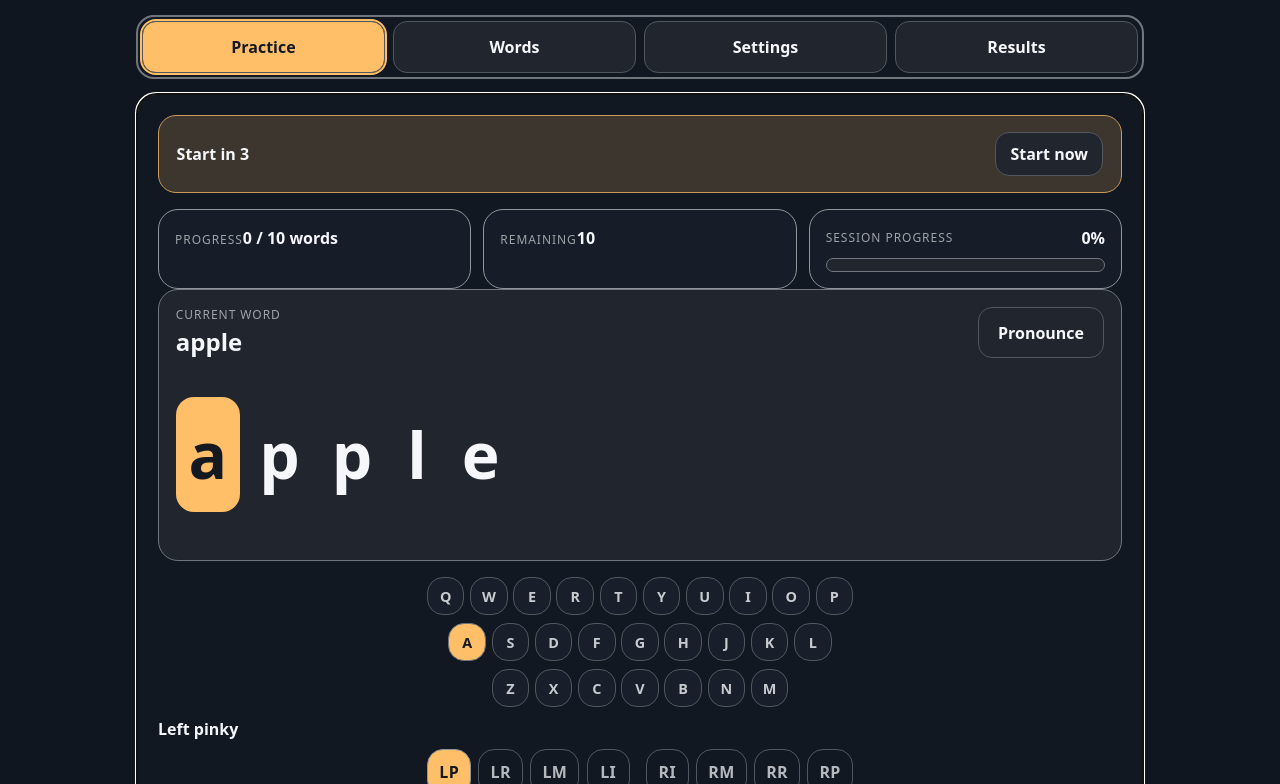
Test case: App › moves secondary row actions into an overflow menu on compact layouts
Click the button "Words": (514, 47) [393,21,636,73]
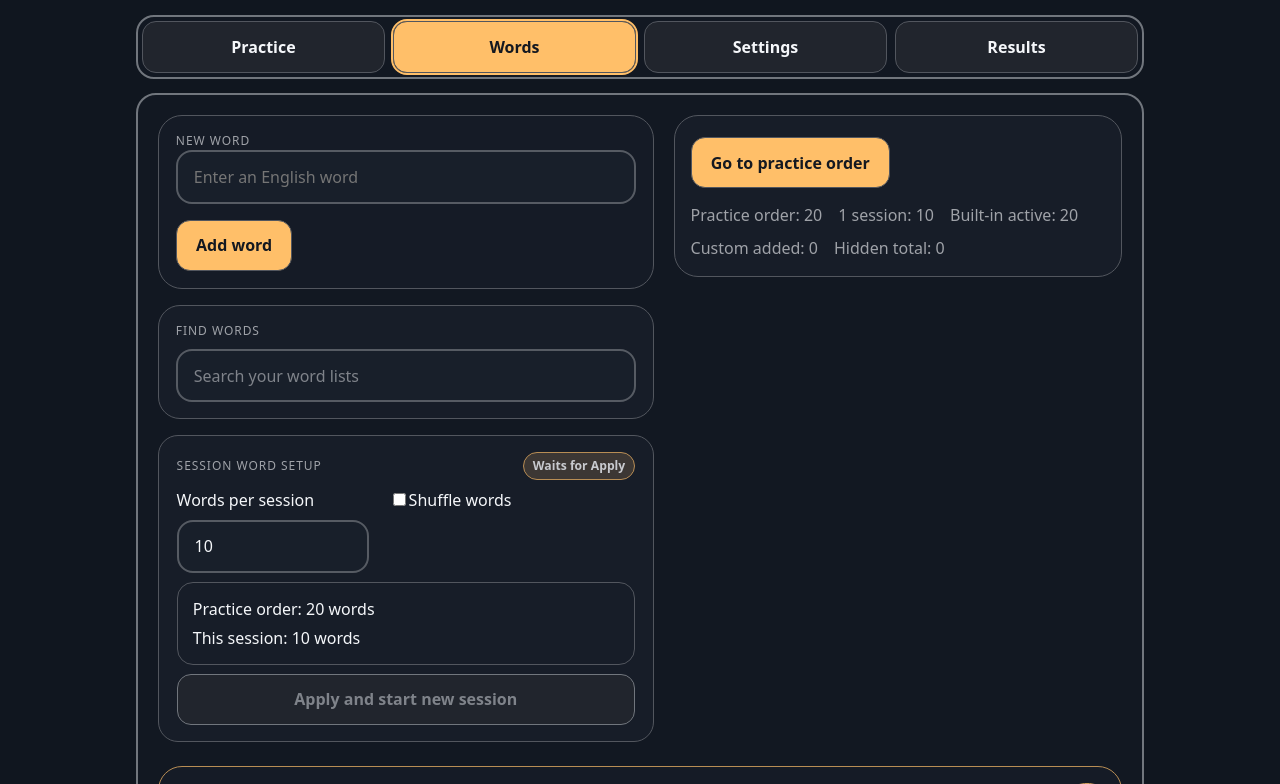
In the field named "New word": (406, 177) [176,150,636,204], type "banana"
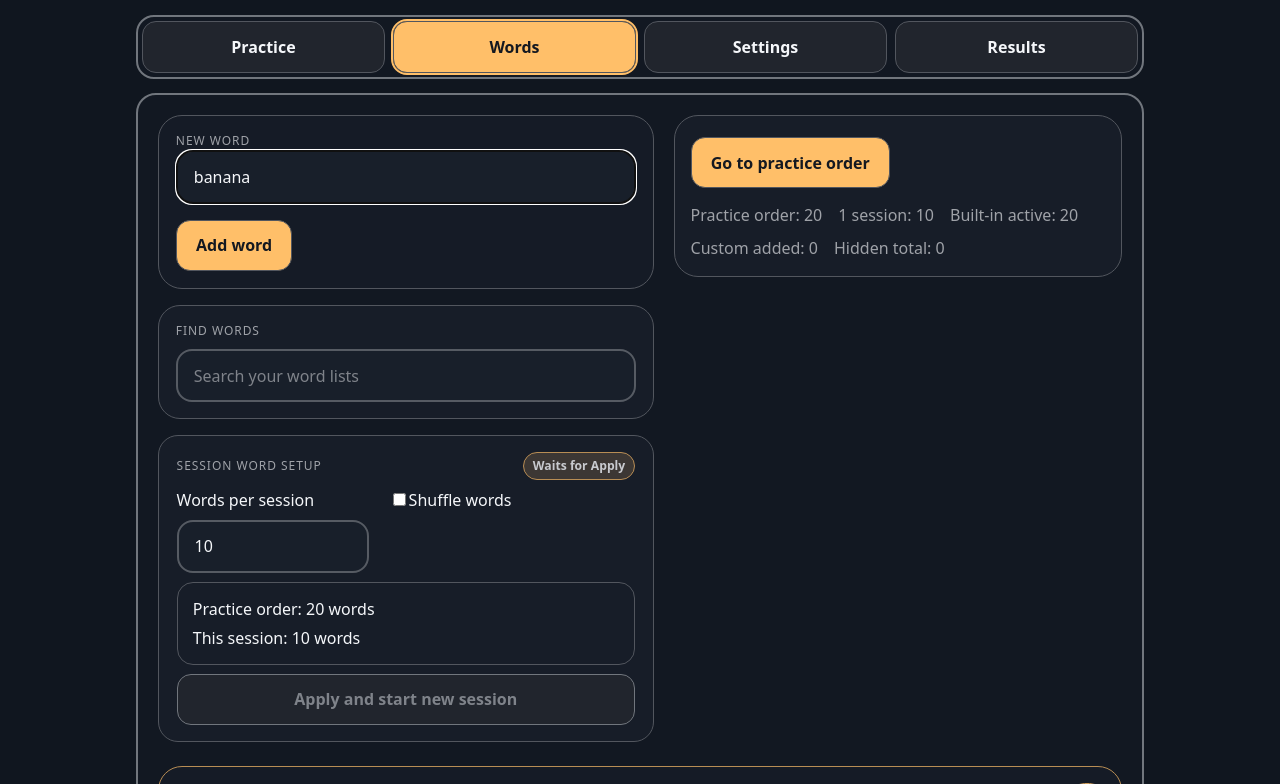
Click the button "Add word": (234, 245) [176,220,292,271]
(page scrolled)
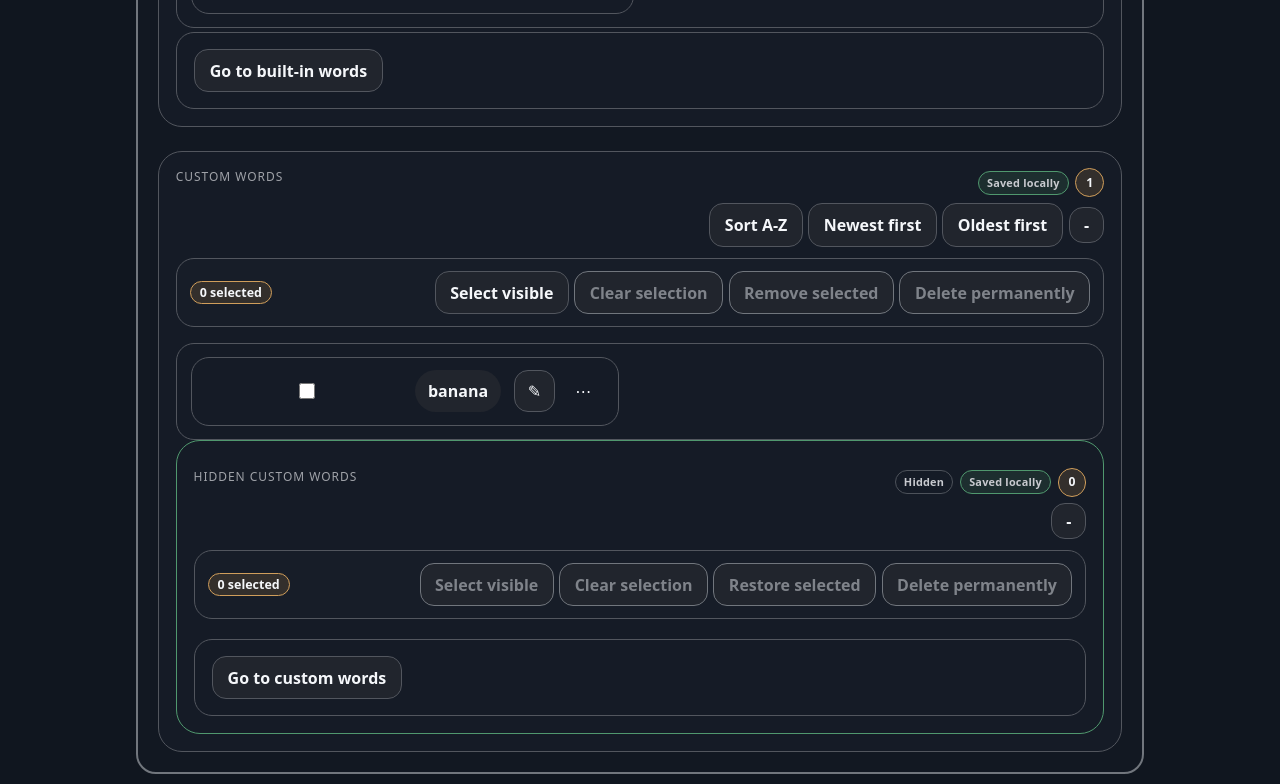
Check: the heading with test id "more-row-actions-button-custom-banana" is shown
Click the heading with test id "more-row-actions-button-custom-banana": (583, 391) [575,380,591,402]
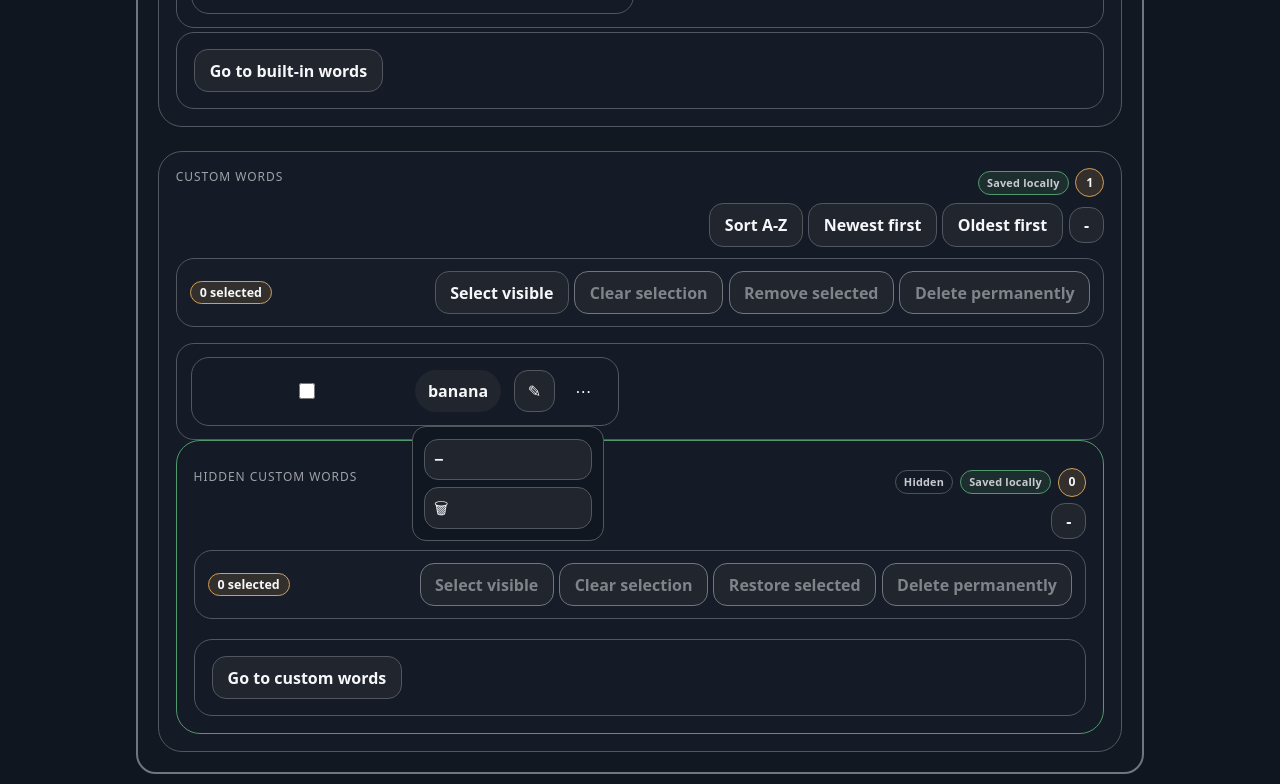
Check: the button with test id "delete-word-button-custom-banana" is shown, box [424,487,592,529]
